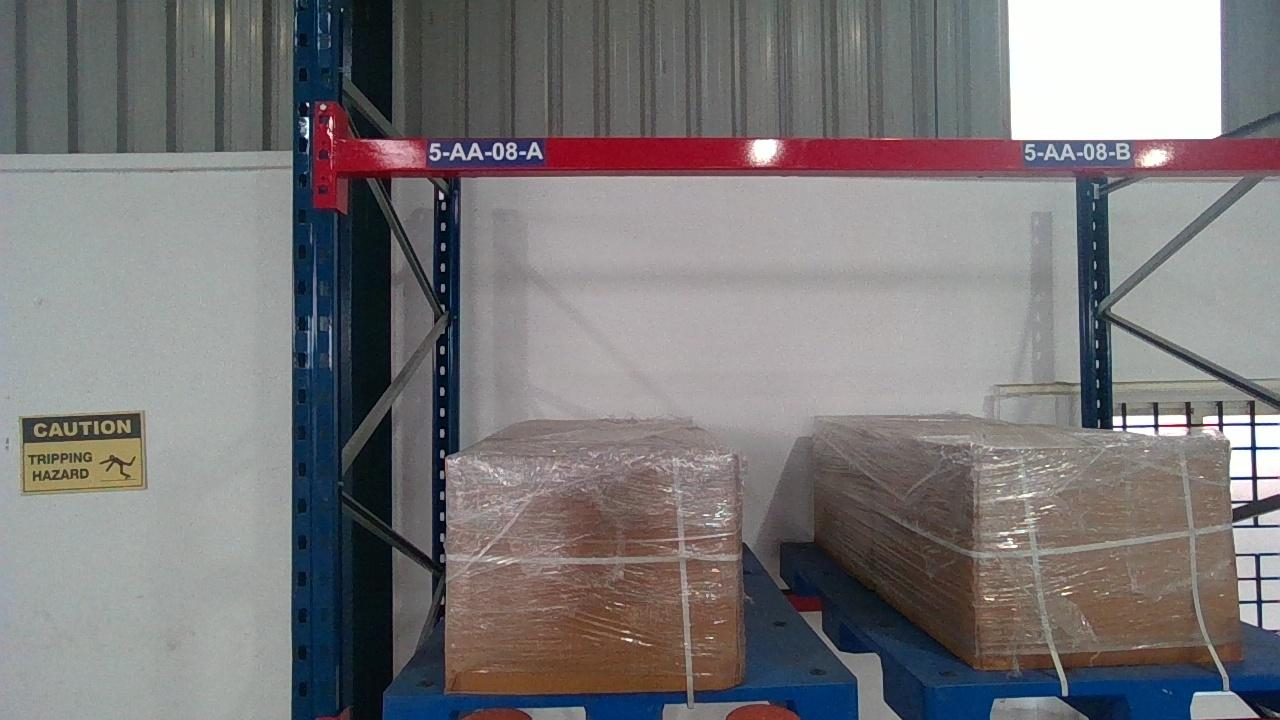h_rack: (331, 135, 1272, 172)
small_pallet: (380, 686, 854, 719), (931, 679, 1277, 719)
